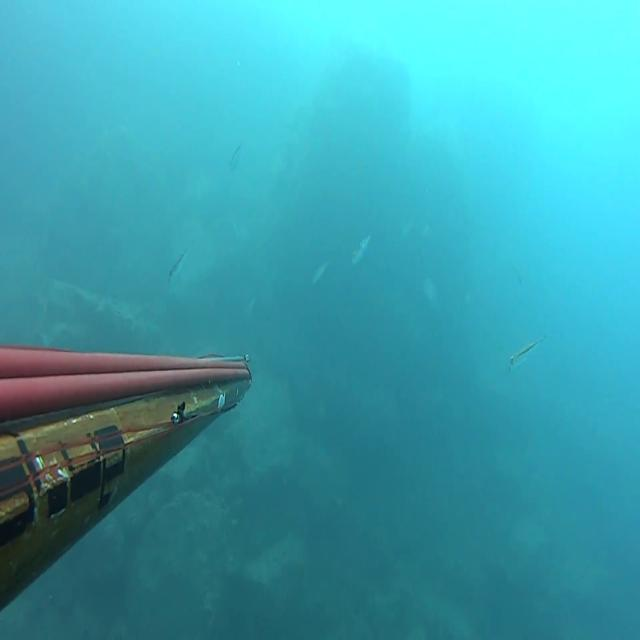Balon Baligi: (508, 332, 548, 372), (169, 248, 189, 282), (352, 232, 372, 266), (230, 140, 243, 170), (312, 261, 329, 283)
